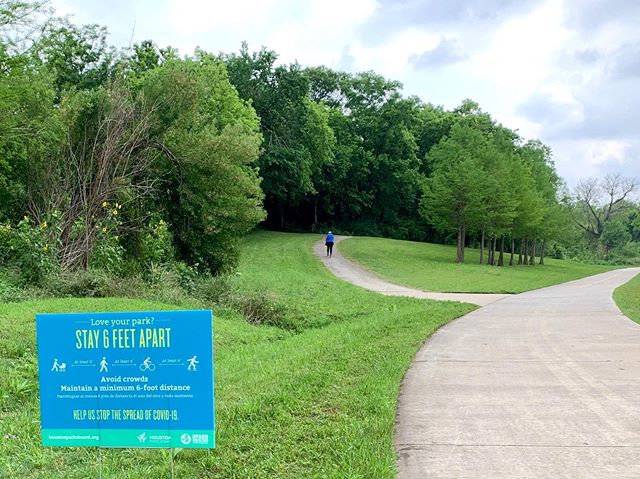grass: (1, 277, 394, 479)
sign: (25, 309, 223, 459)
sky: (88, 1, 630, 195)
street: (398, 268, 640, 477)
vegetation: (1, 49, 584, 265)
